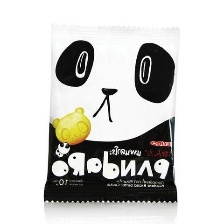snack: (35, 16, 194, 210)
